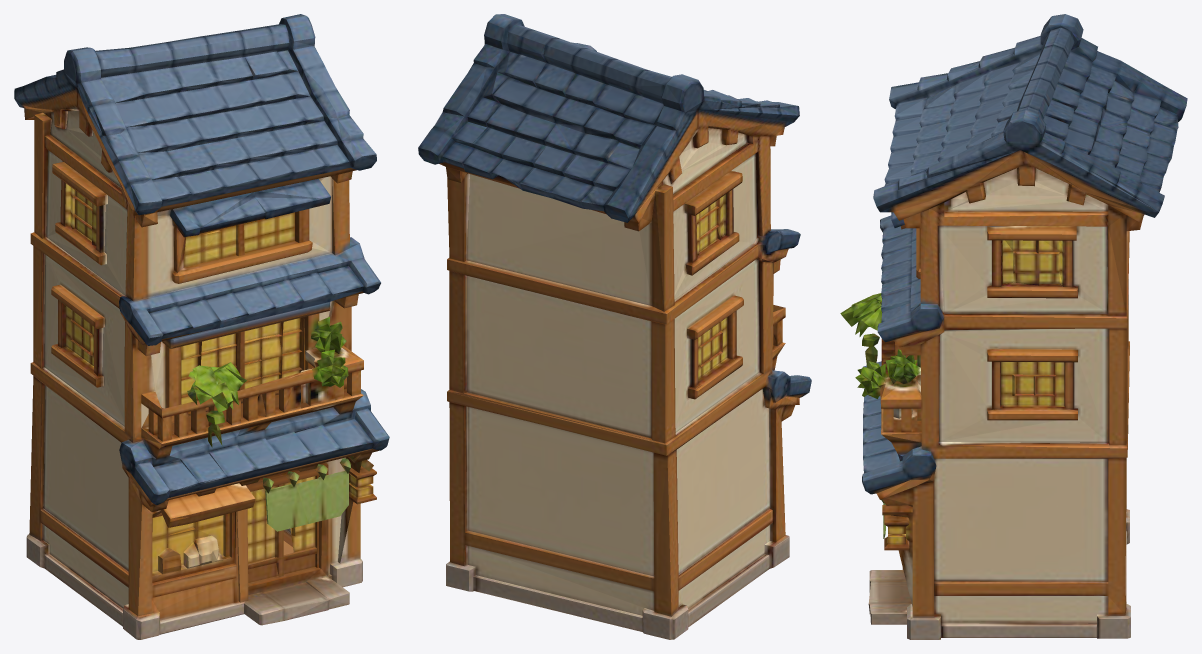
File: shopc-ufy4b8j8.glb
The picture shows the model from 3 angles, left to right: view 1: azimuth 30°, elevation 25°; view 2: azimuth 150°, elevation 25°; view 3: azimuth 270°, elevation 25°; orthographic projection.
Parts seen in each view (by area): view 1: tripo_node_d6522044-0d6b-49ac-8d5c-c533cade4f0f; view 2: tripo_node_d6522044-0d6b-49ac-8d5c-c533cade4f0f; view 3: tripo_node_d6522044-0d6b-49ac-8d5c-c533cade4f0f.
Boxes of the visible parts, <box> form: tripo_node_d6522044-0d6b-49ac-8d5c-c533cade4f0f: <box>14,14,389,639</box>; tripo_node_d6522044-0d6b-49ac-8d5c-c533cade4f0f: <box>418,14,811,639</box>; tripo_node_d6522044-0d6b-49ac-8d5c-c533cade4f0f: <box>840,14,1187,639</box>.
Size of the model in its own units: 0.4723 by 0.9772 by 0.5871.
Materials: 1 (1 with a texture image).
